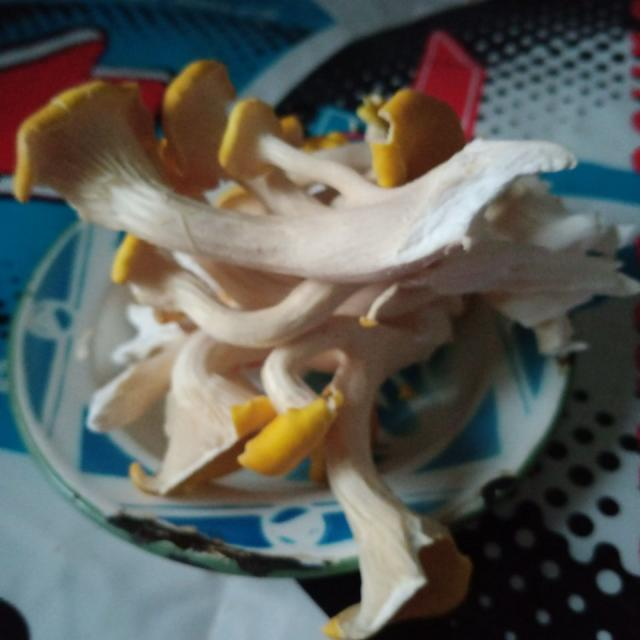Pleurotus citrinopileatus: (15, 63, 638, 634)
